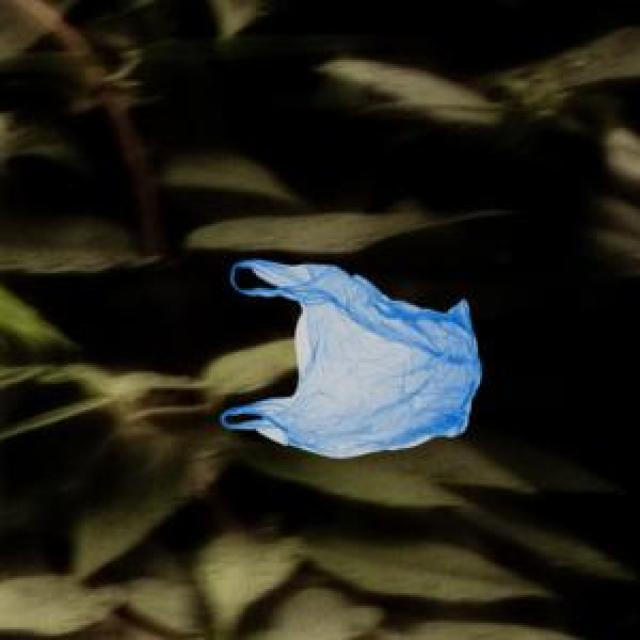Bolsa-de-nilon: (217, 257, 488, 447)
